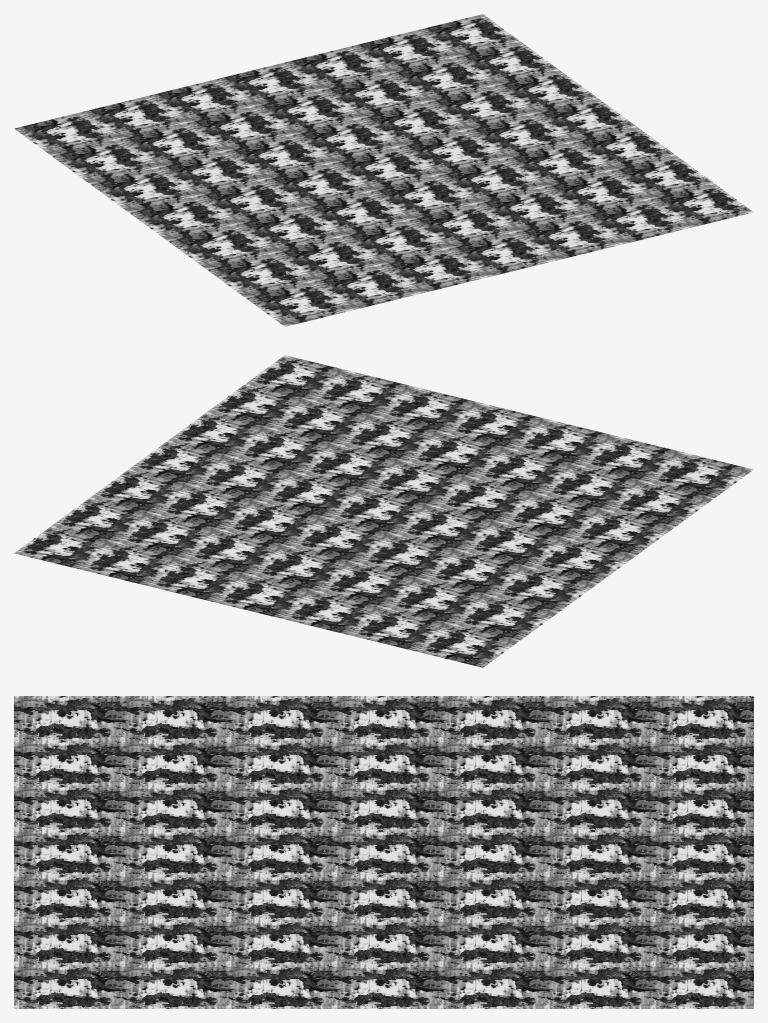
Rendered from SM_Road_02.fbx.
The picture shows the model from 3 angles, top to bottom: view 1: azimuth 30°, elevation 25°; view 2: azimuth 150°, elevation 25°; view 3: azimuth 270°, elevation 25°; orthographic projection. The views are drawn at different scales.
Visible parts, largest first — view 1: SM_Road_02; view 2: SM_Road_02; view 3: SM_Road_02.
Part boxes in pixels (x1=…): SM_Road_02: x1=14, y1=14, x2=753, y2=326; SM_Road_02: x1=14, y1=355, x2=753, y2=667; SM_Road_02: x1=14, y1=696, x2=753, y2=1008.
Bounding box in the file's own units: 930 × 930 × 1.13e-05.
1 material, 1 textured.
